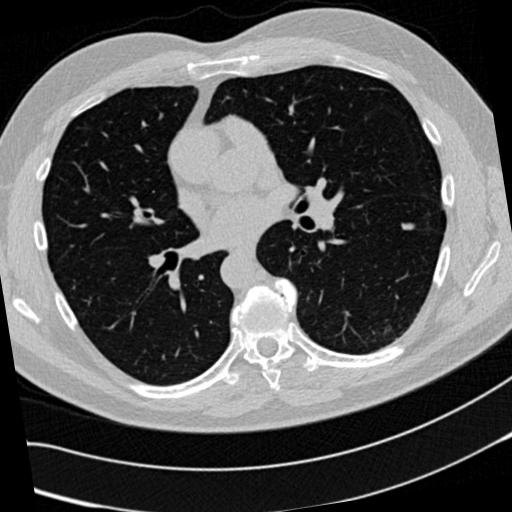nodule: (401, 217, 418, 234)
